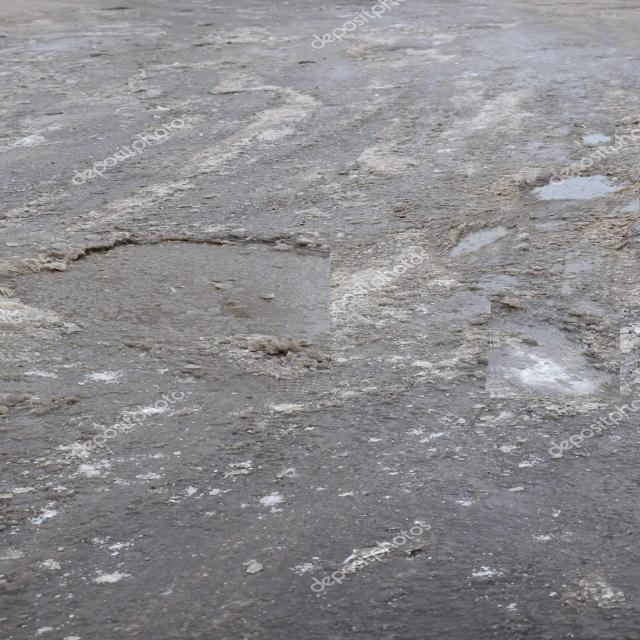Pothole: (0, 232, 330, 393), (488, 296, 620, 401), (428, 213, 529, 263), (527, 166, 639, 211), (574, 118, 615, 146)
